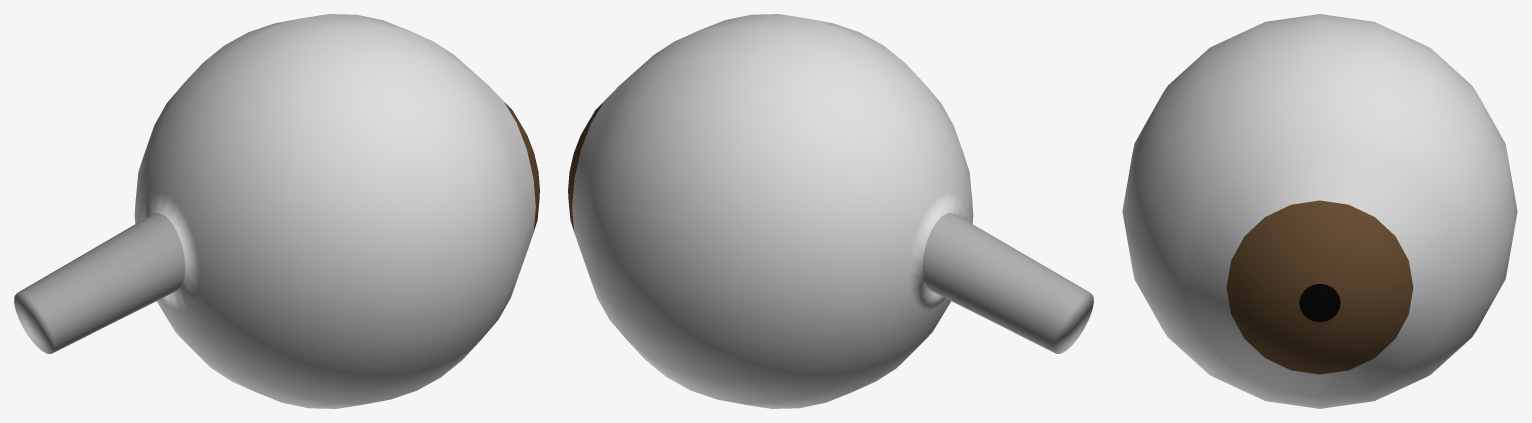
Rendered from eyemodel2.fbx.
3 renders of one model, left to right at view 1: azimuth 30°, elevation 25°; view 2: azimuth 150°, elevation 25°; view 3: azimuth 270°, elevation 25°, orthographic.
Parts seen in each view (by area): view 1: pSphere4; view 2: pSphere4; view 3: pSphere4.
Part boxes in pixels (x1=…): pSphere4: x1=14, y1=14, x2=539, y2=408; pSphere4: x1=568, y1=14, x2=1093, y2=408; pSphere4: x1=1122, y1=14, x2=1517, y2=408.
Bounding box in the file's own units: 8.26 × 5.73 × 5.73.
